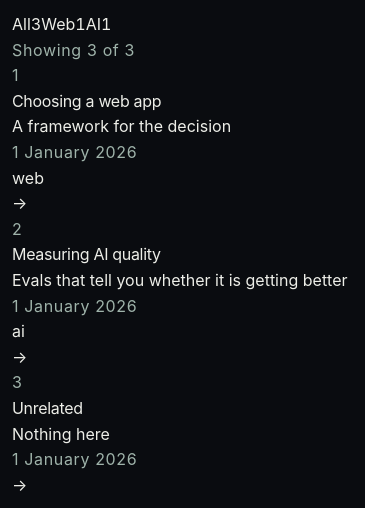
Test case: ArchiveIndex › filters rows by tag and reports the count
Check: the message reads "Showing 3 of 3", box [12,40,135,60]
Click the button "Web1": [63, 24] box [41,15,86,33]
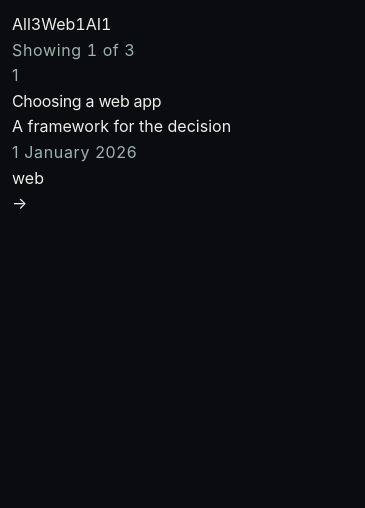
Check: the number of headings is 1, box [12,91,161,111]
Check: the message reads "Showing 1 of 3", box [12,40,135,60]
